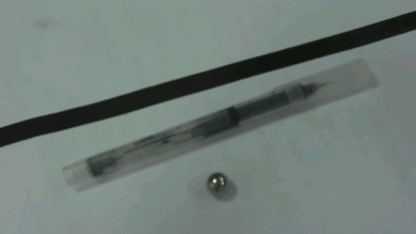ironball: (198, 170, 230, 196)
